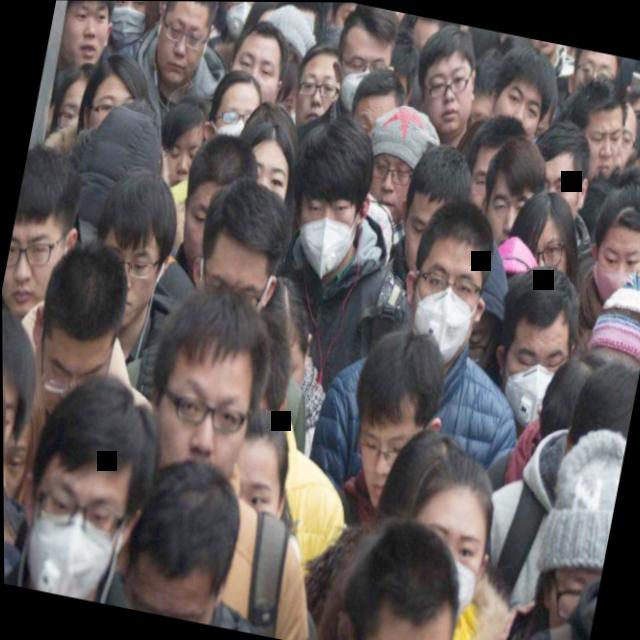Mask: (3, 356, 170, 608), (387, 187, 506, 371), (390, 433, 508, 618), (273, 102, 385, 288), (474, 253, 584, 438), (318, 2, 409, 121), (577, 172, 640, 313), (97, 1, 167, 51)
NO-Mask: (134, 270, 280, 494), (335, 314, 459, 524), (76, 156, 185, 339), (1, 144, 90, 328), (468, 128, 556, 255), (352, 101, 439, 225), (402, 21, 490, 142), (557, 69, 633, 184), (480, 38, 562, 142), (144, 1, 223, 92), (47, 0, 125, 76)
